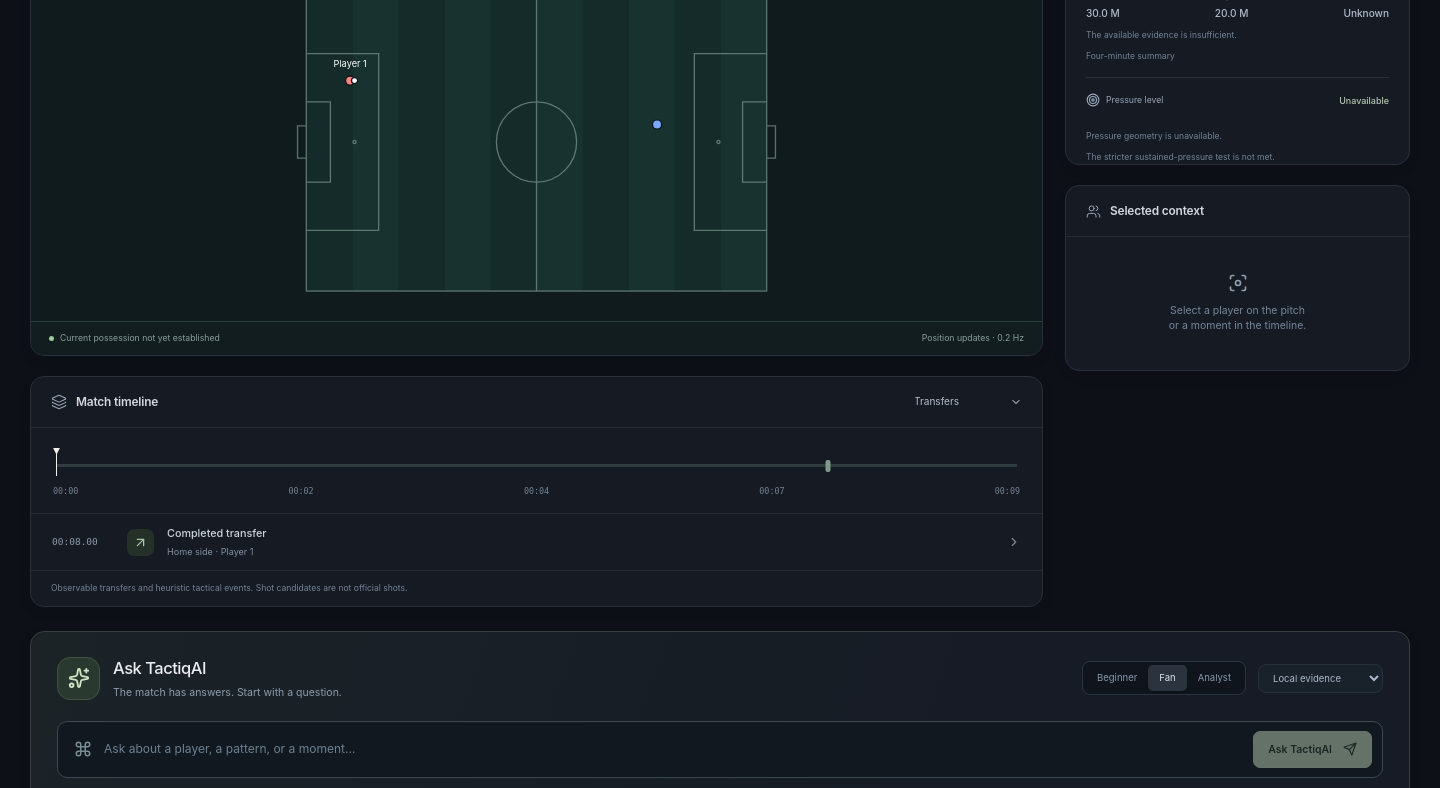
Scenario: Match Intelligence › filters empty categories without inventing events
(page scrolled)
Step 1. Select "Shot candidates" in the dropdown named "Filter timeline" → point(958, 402), box x1=914 y1=394 x2=1002 y2=409
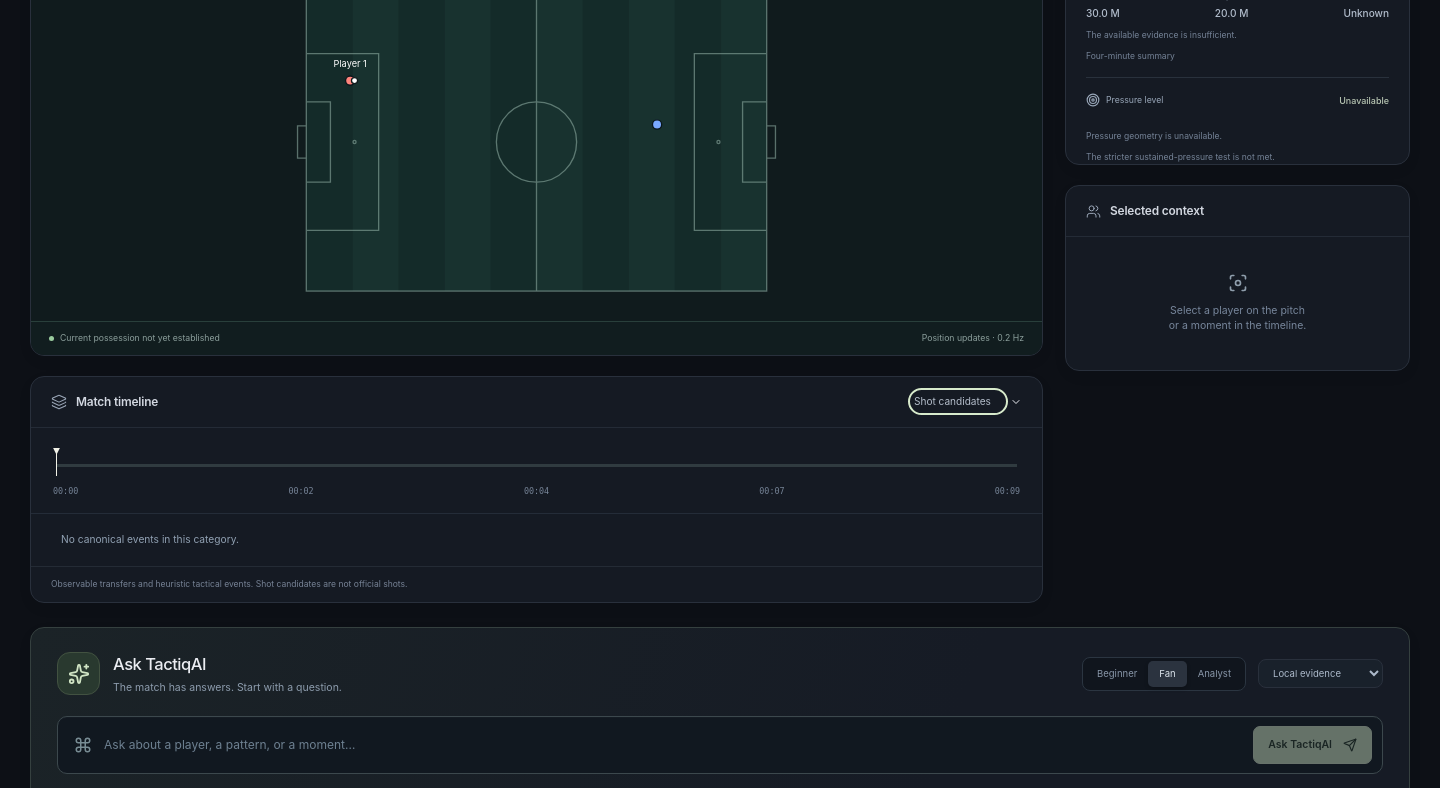
Check: the text "No canonical events in this category." is shown, box x1=61 y1=533 x2=239 y2=545
